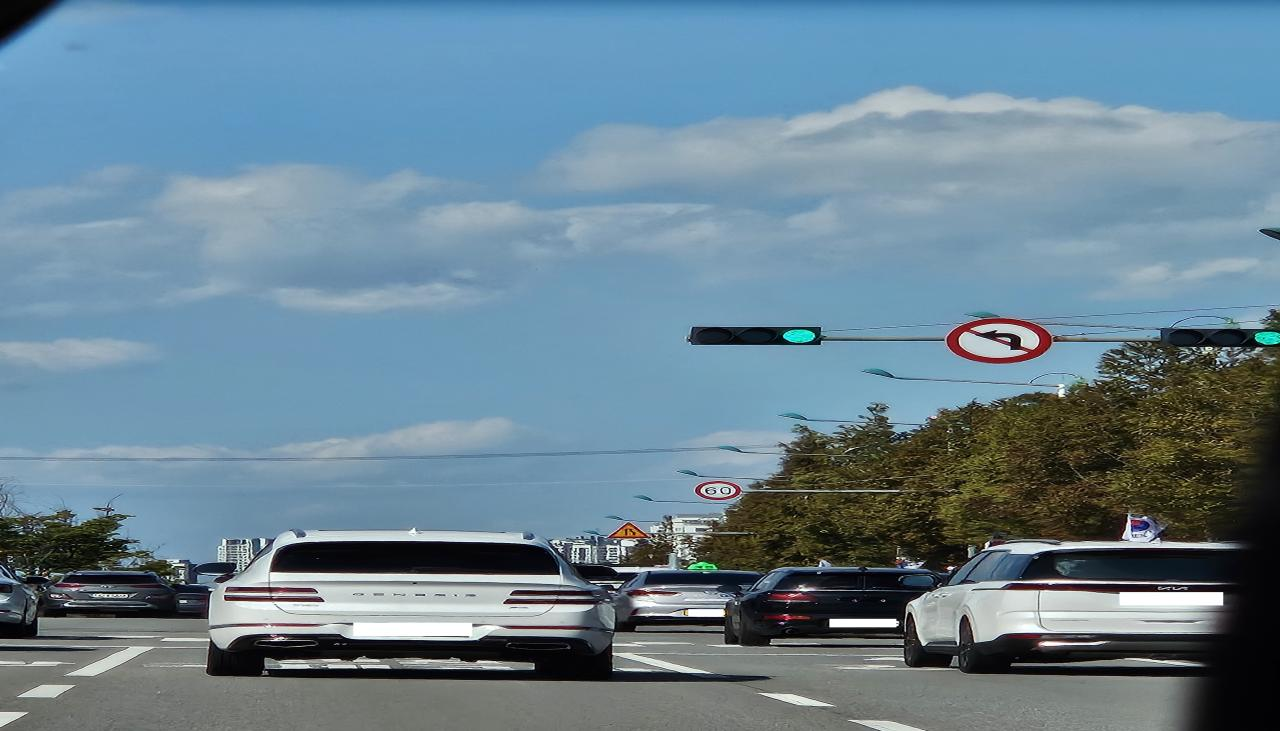Green Light: (780, 327, 820, 345), (1247, 328, 1280, 346)
